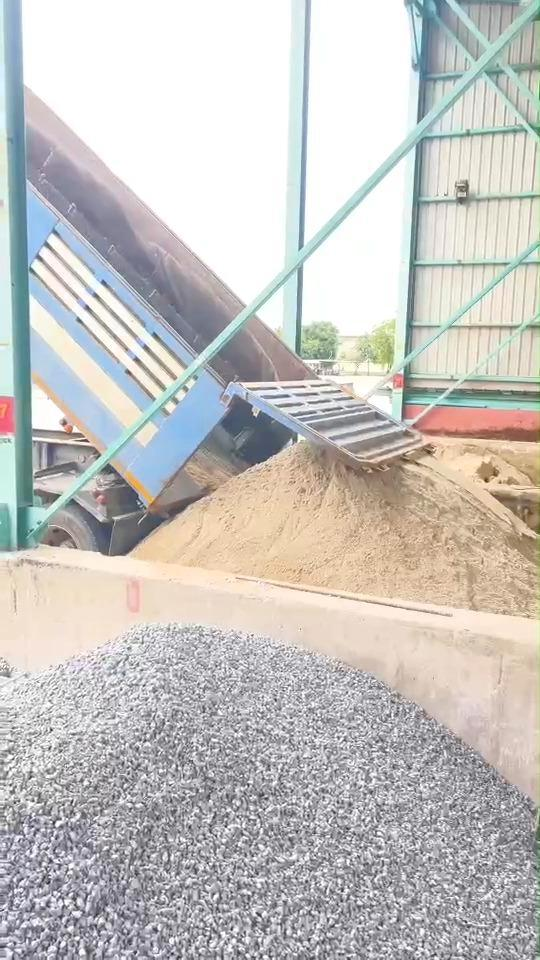gravel: (3, 625, 537, 959)
sand: (136, 443, 537, 616), (437, 447, 529, 488)
